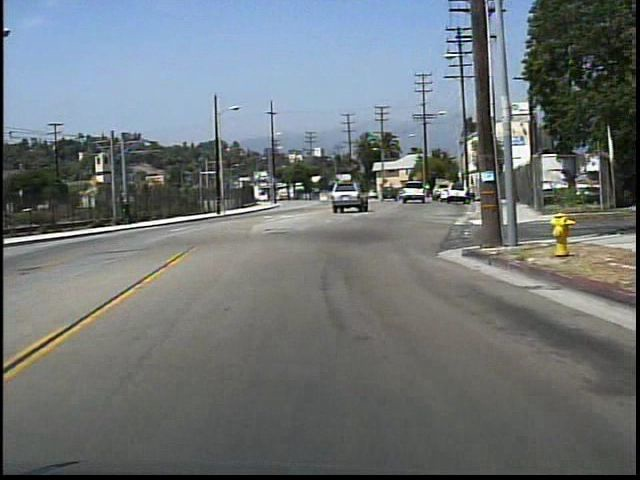person: (122, 195, 137, 227)
